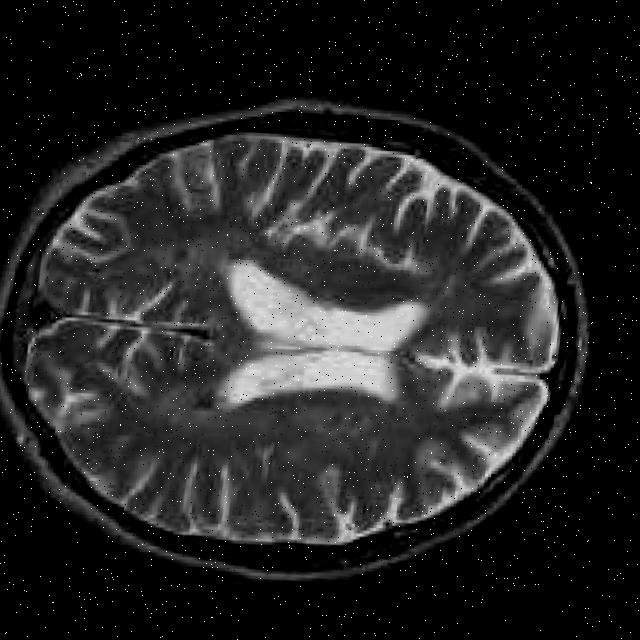NoTumor: (0, 112, 593, 570)
